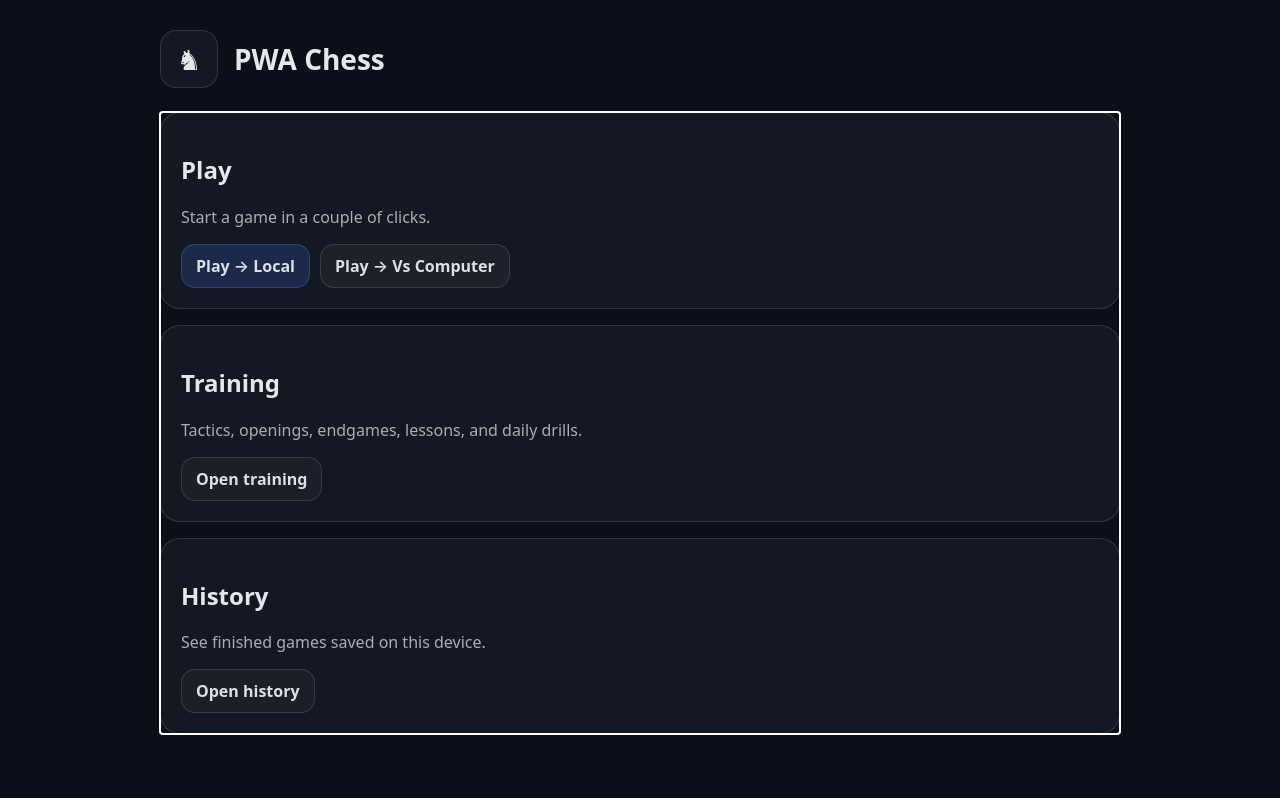
Test: App › lets the user start a vs-computer game (router smoke test)
The image size is (1280, 798).
Click the link "Play → Vs Computer".
click(415, 266)  # box [320,244,510,288]
(page scrolled)
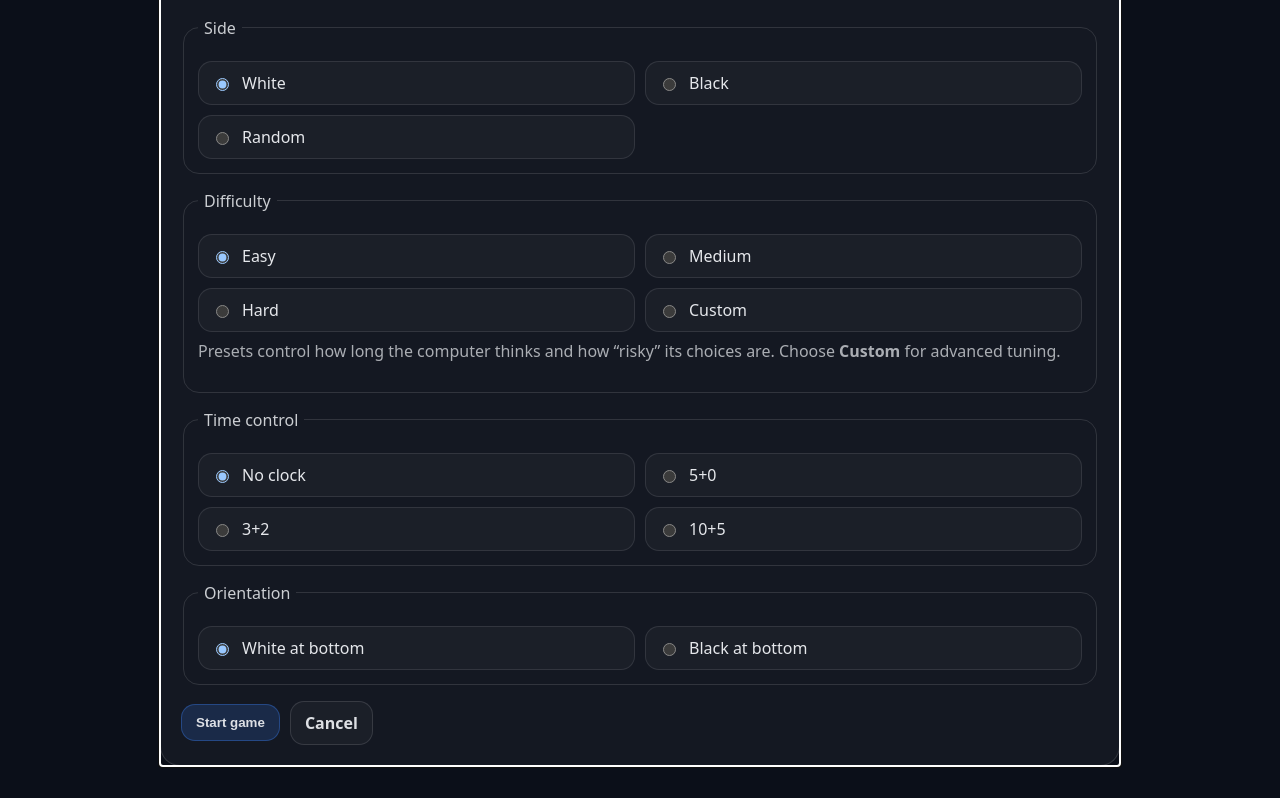
Click the button "Start game".
click(230, 723)  # box [181,704,280,741]
(page scrolled)
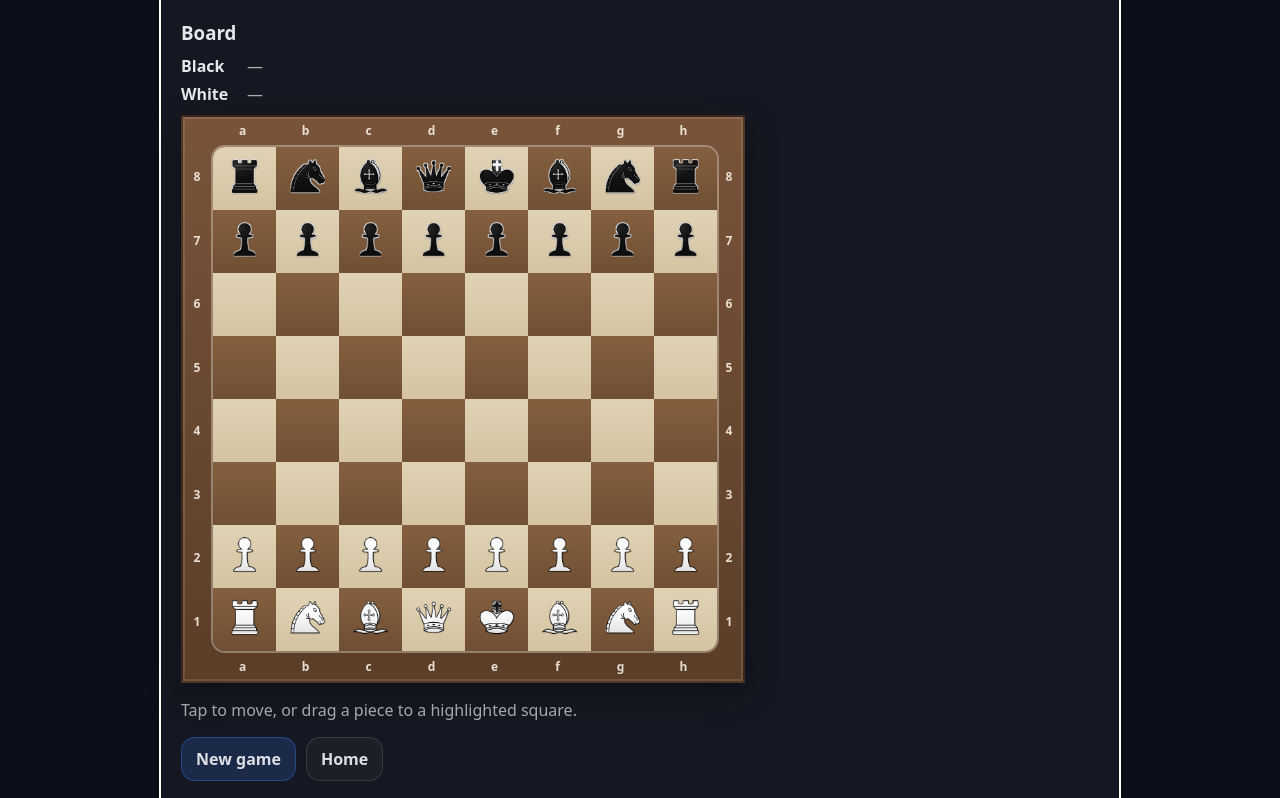
Result: the table named "chess board" is shown at [211,145,719,653]
